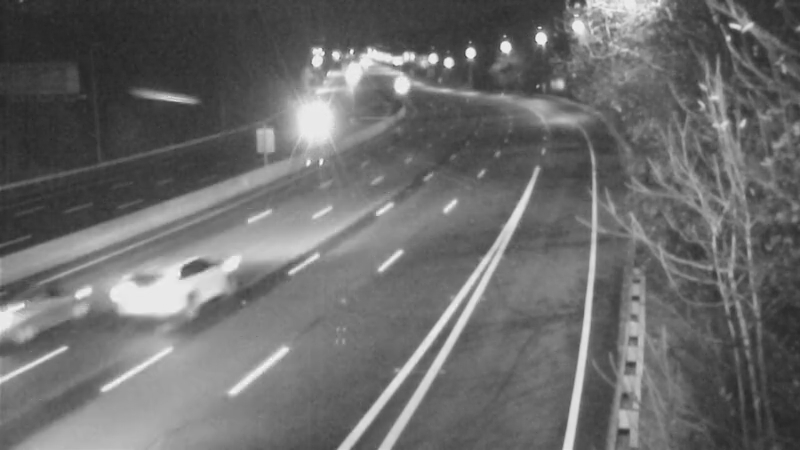vehicle: (124, 252, 204, 332), (375, 59, 425, 109), (293, 98, 343, 148)
